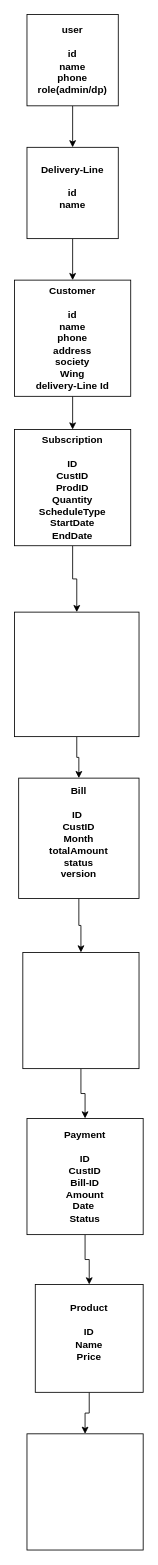
Image size: 158x1565. Some labels were removed from this diagram. Here are the shapes that lost their labels. From the top down, the centre of each, then its label:
At point 76,674: "Delivery ID CustID SubsID Date quantity Status".
At point 80,1010: "Bill-Item id bill-ID type desciption quantity price total".
At point 84,1491: "Add-On-Order ID CustID ProdID Quantity Date".
